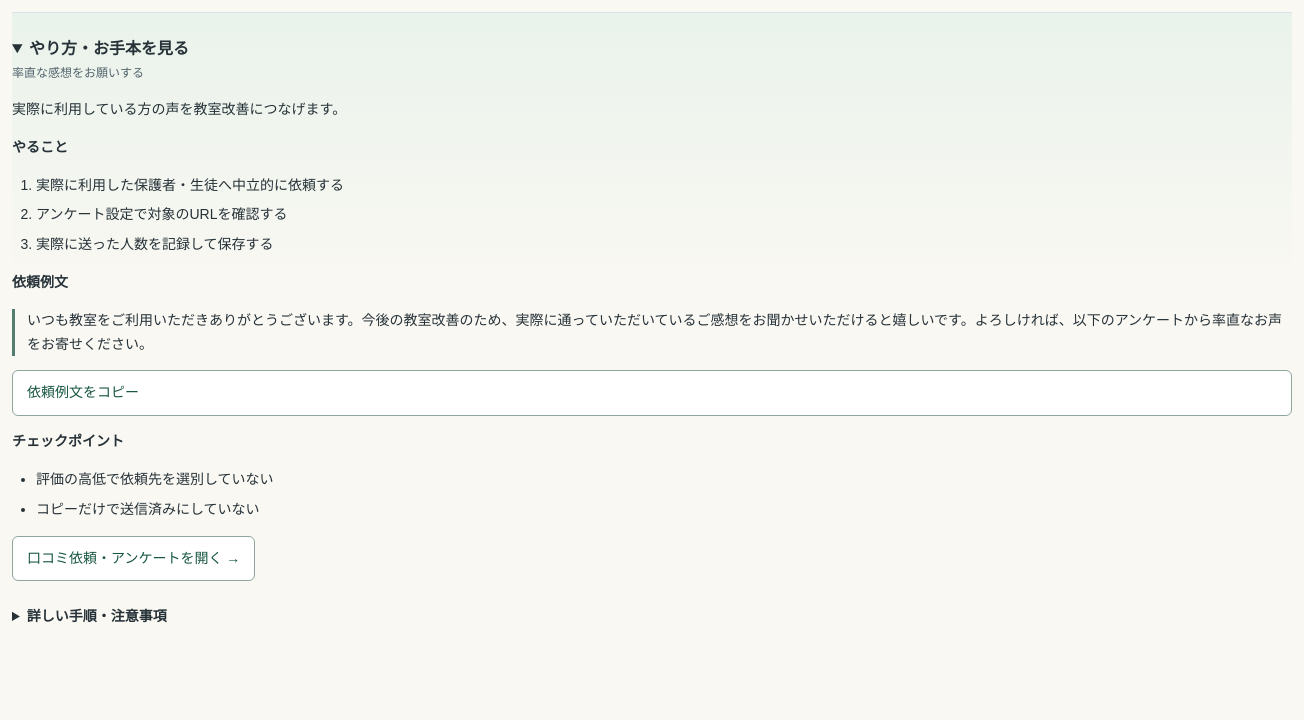
Scenario: progressive execution guides › copies neutral request text without sending or saving progress
Expected: the heading "やること" is shown, [12,139,68,155]
Click the button "依頼例文をコピー". click: point(83, 392)
box: [12,370,1292,416]
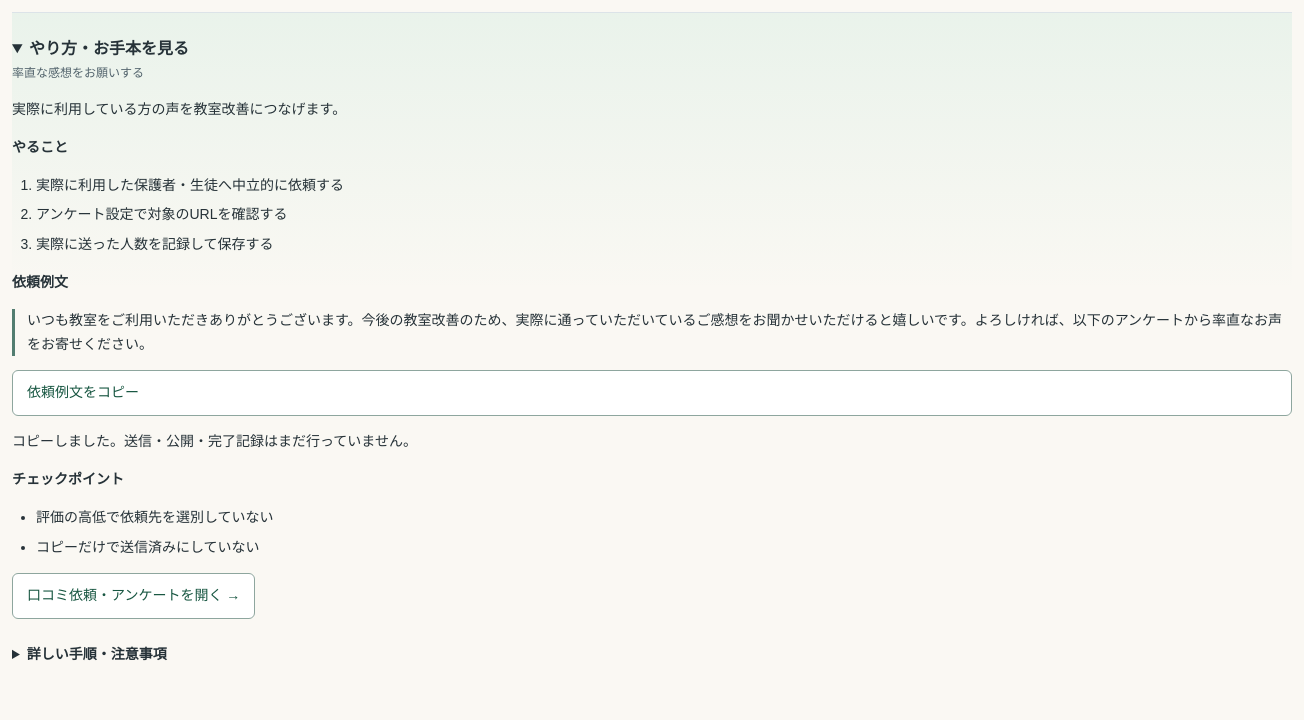
Now the text "コピーしました。送信・公開・完了記録はまだ行っていません。" is shown, box [12,433,417,449]
Click the button "依頼例文をコピー". click: point(83, 392)
box: [12,370,1292,416]
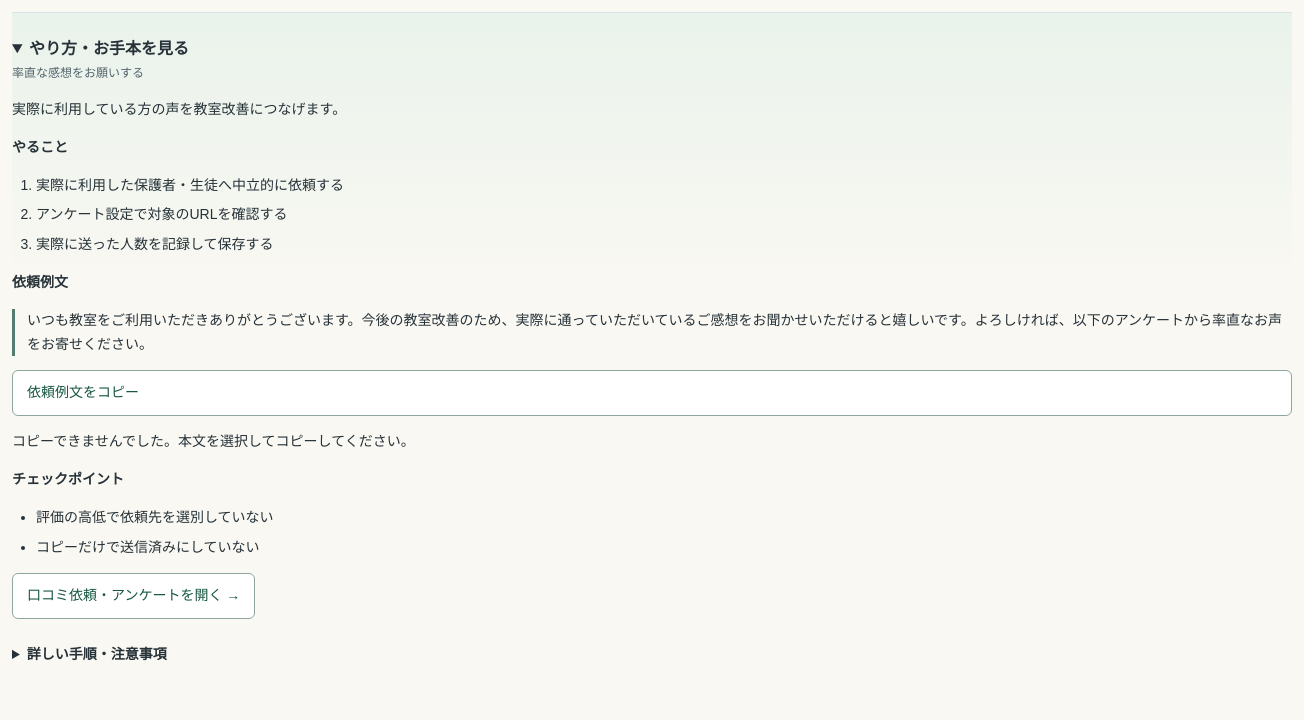
Now the text "コピーできませんでした。本文を選択してコピーしてください。" is shown, box [12,433,415,449]
